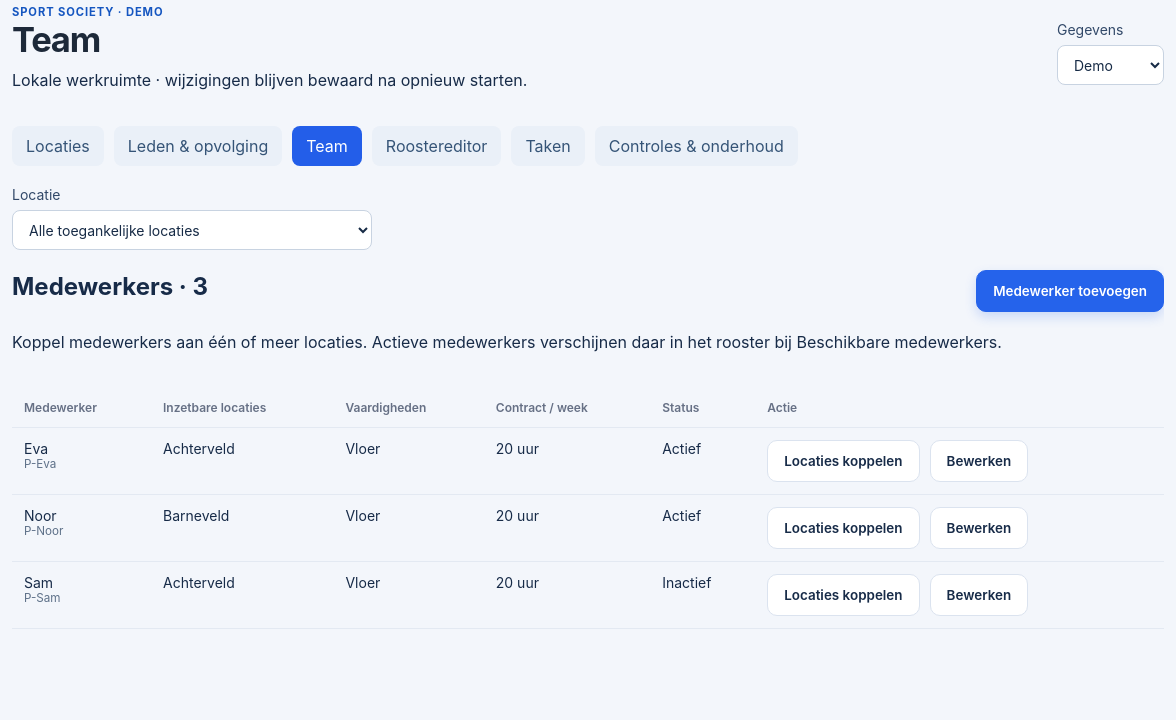
neemt een nieuwe thuislocatie op en laat daarna de oude locatie loskoppelen
The image size is (1176, 720).
Click the button "Locaties koppelen" in the row of "P-Eva": (843, 461) 767,440 -> 920,482
(page scrolled)
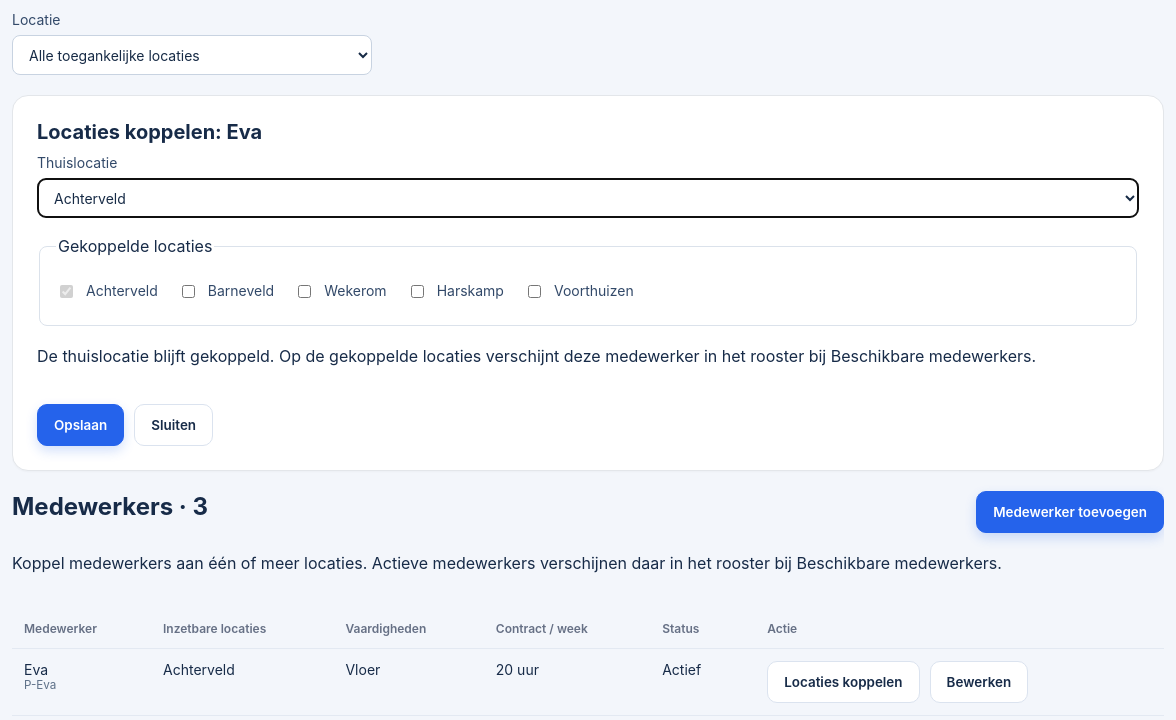
Select "Barneveld" in the dropdown labelled "Thuislocatie": (588, 198) 37,178 -> 1139,218
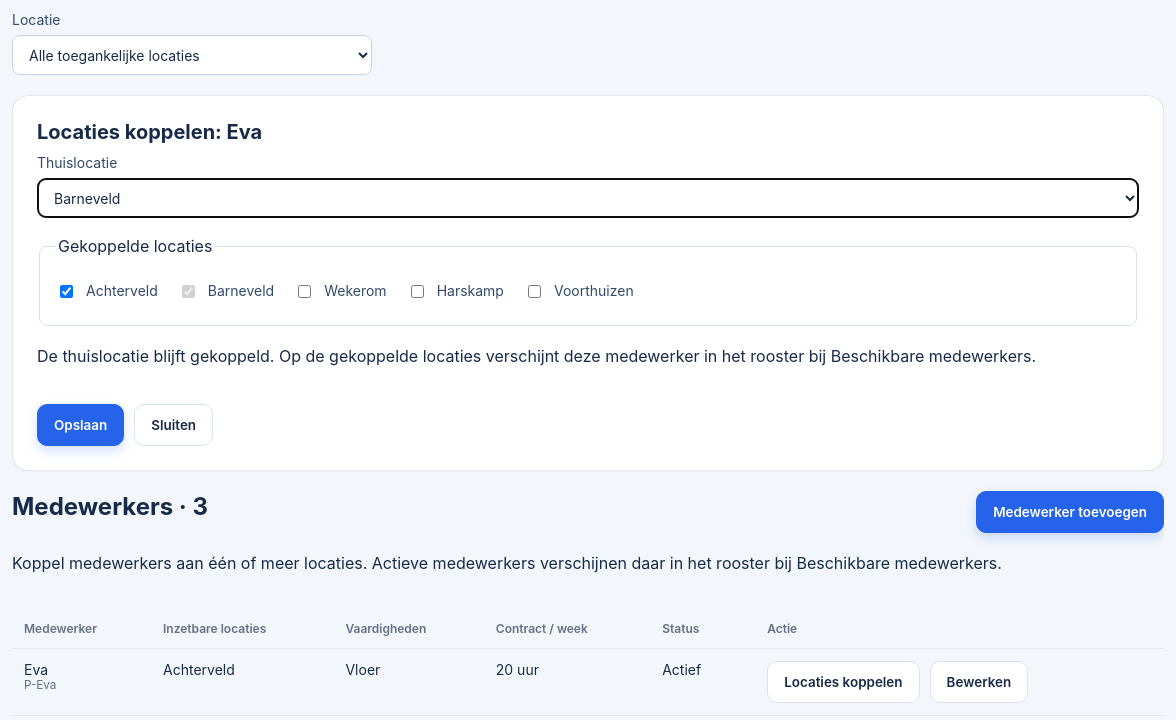
Expected: the checkbox labelled "Barneveld" is checked, 182,285 -> 195,298
Expected: the checkbox labelled "Barneveld" is disabled, 182,285 -> 195,298
Click the checkbox labelled "Achterveld": (66, 291) 60,285 -> 73,298
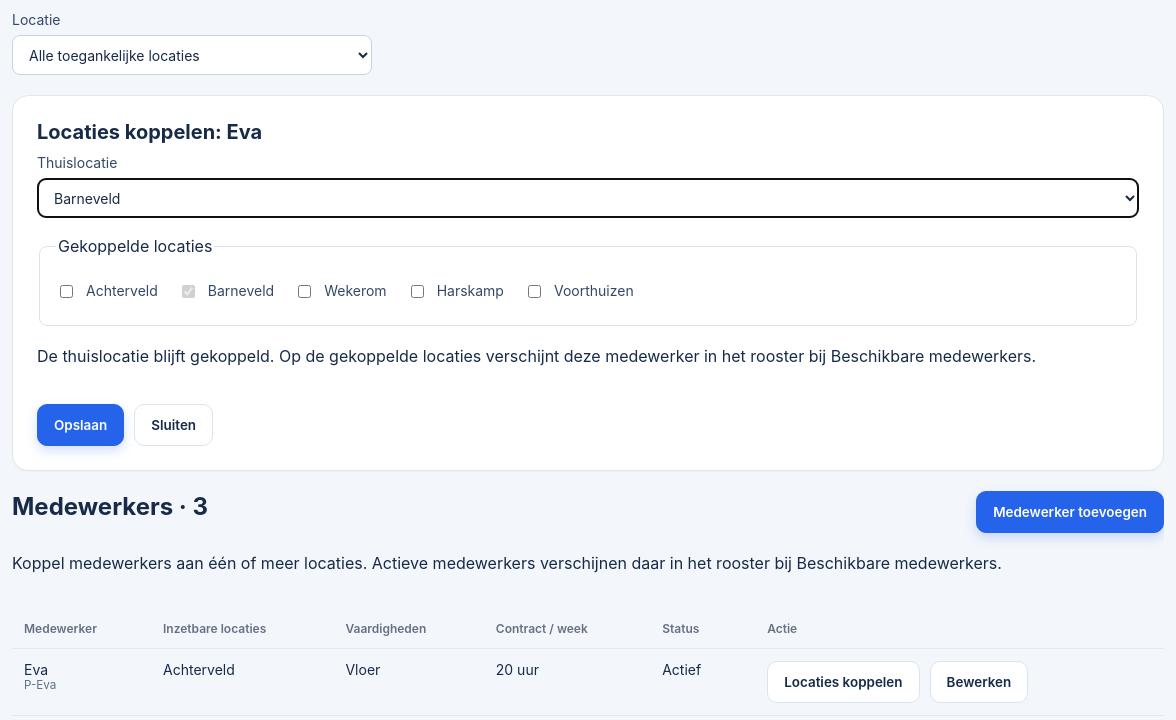
Click the button "Opslaan": (81, 425) 37,404 -> 124,446
(page scrolled)
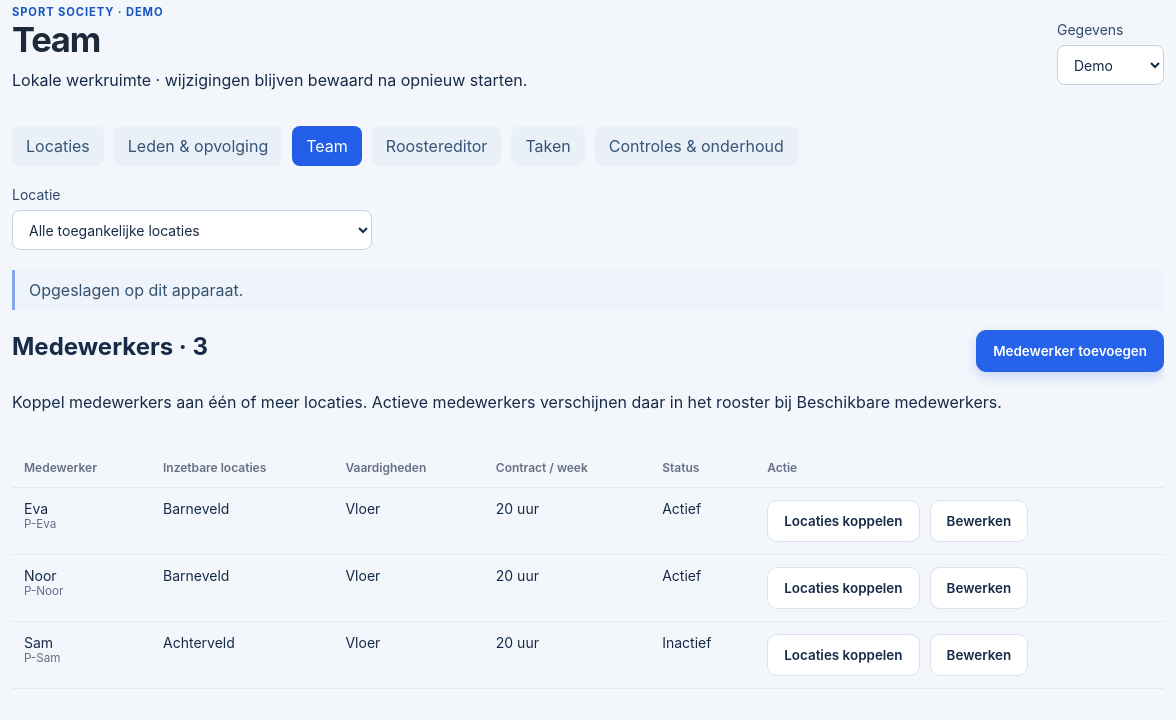
Expected: the text "Opgeslagen op dit apparaat." is shown, 12,270 -> 1164,310
